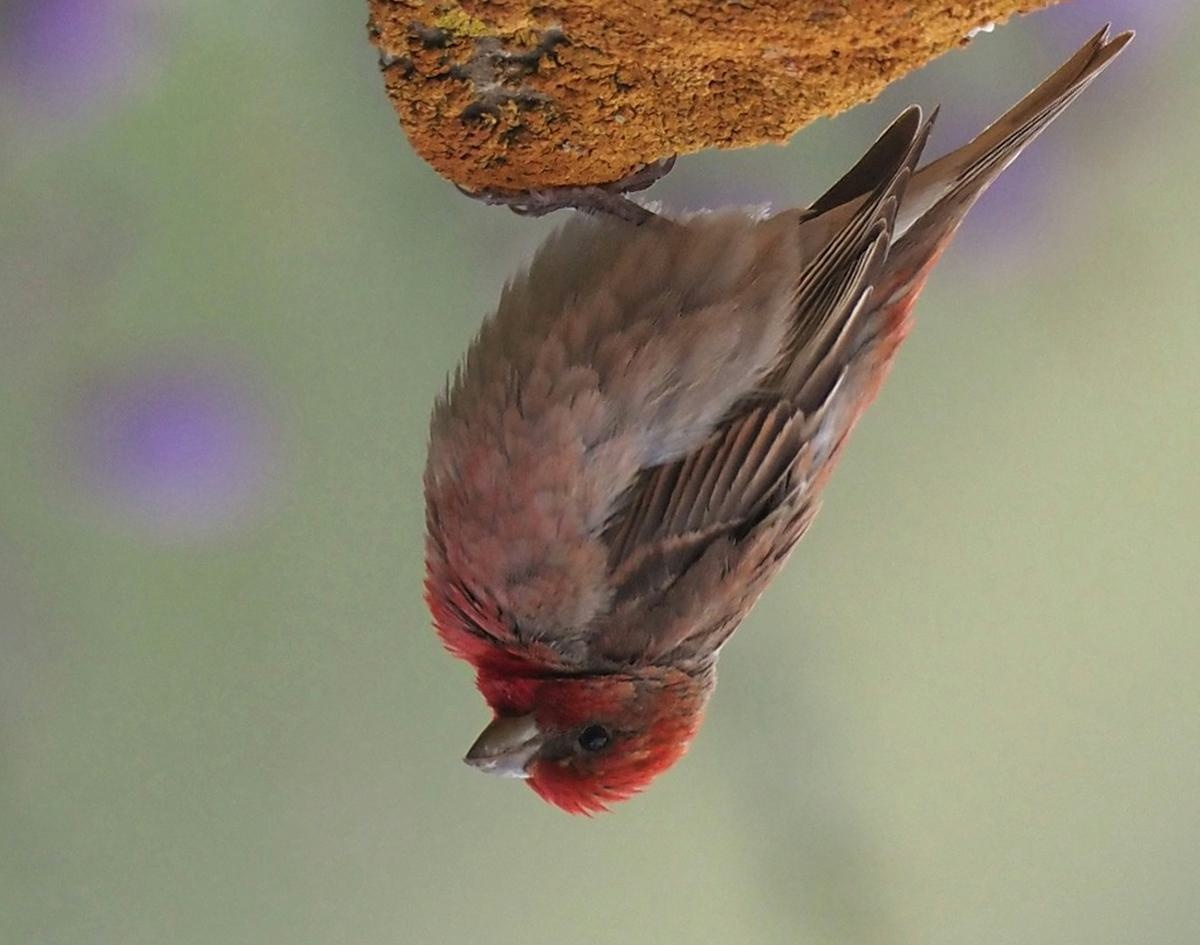rosefinch: (422, 80, 975, 871)
